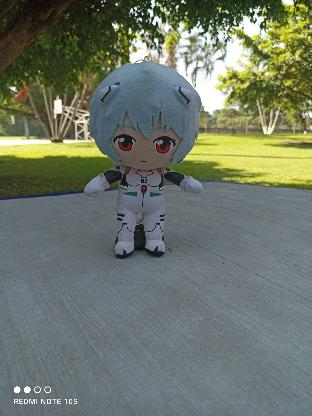rei-plush: (73, 53, 209, 275)
